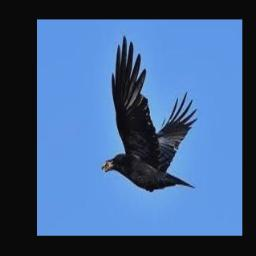Crow: (102, 35, 196, 191)
